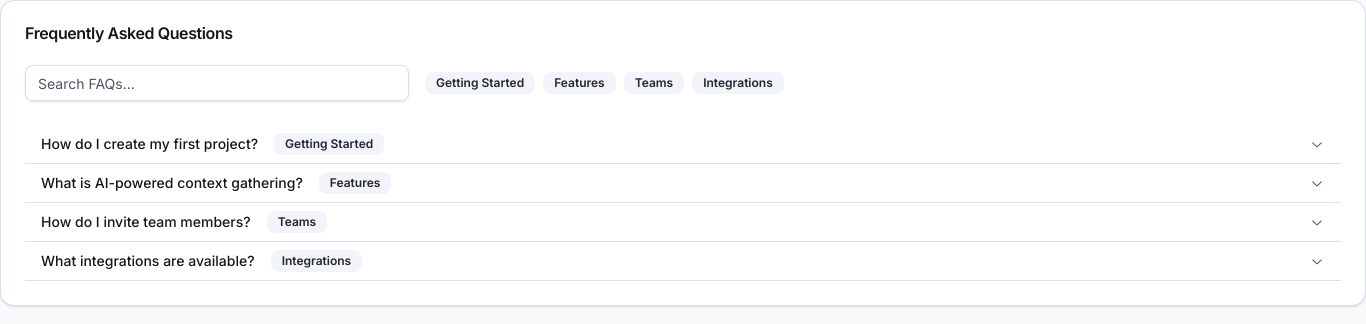
Test: SupportFAQ › shows no results when search does not match
Step 1. Type "nonexistent question" into the field with placeholder "Search FAQs..." → (217, 83), box x1=25 y1=65 x2=409 y2=101
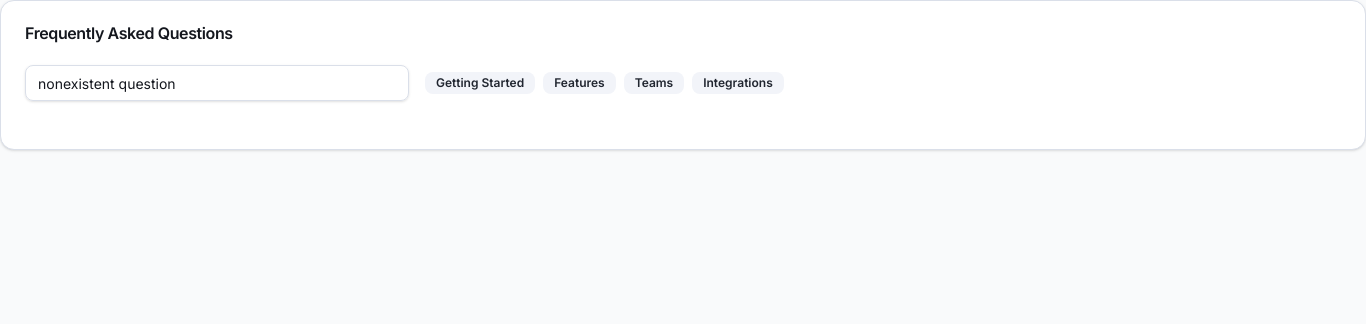
Check: the button "How do I create my first project?" is gone
Check: the button "What is AI-powered context gathering?" is gone
